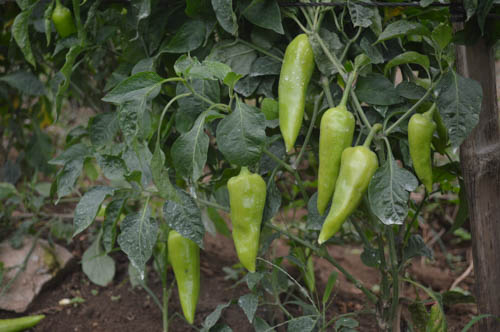ChiliPepper: (319, 146, 377, 251), (277, 34, 314, 155), (313, 103, 353, 214), (226, 173, 266, 275), (166, 226, 197, 321), (405, 107, 436, 186)
